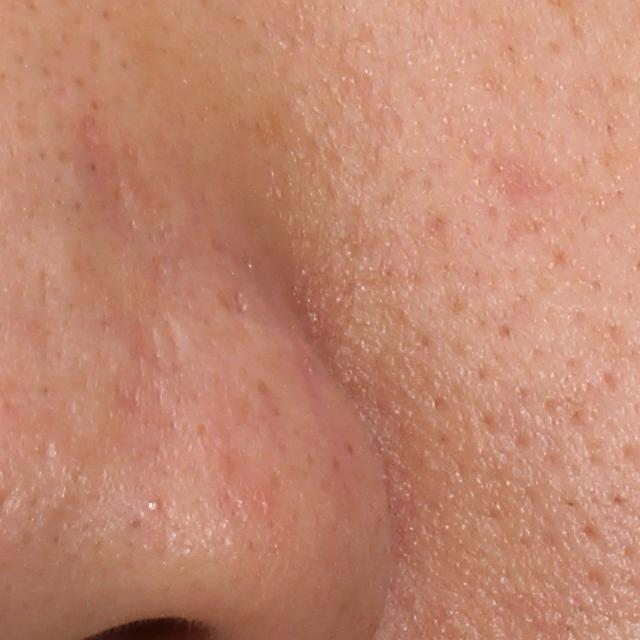atrophic_scar: (124, 313, 163, 372), (158, 301, 180, 361)
comedo: (145, 496, 161, 515)
